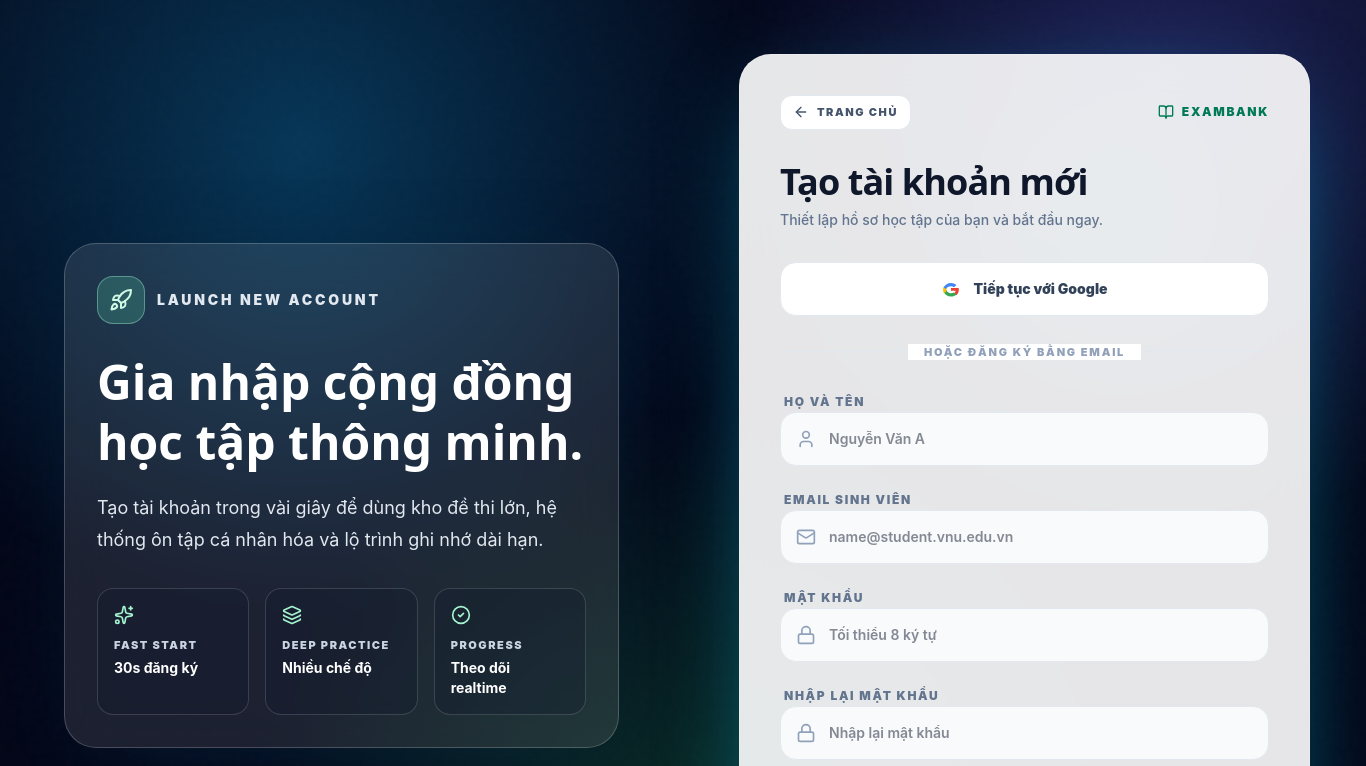
Scenario: Register page › validates full name — shows error when shorter than 3 chars
This screenshot has width=1366, height=766.
Type "AB" into the field labelled "Họ và tên" at (1024, 439), box [780,412,1269,466]
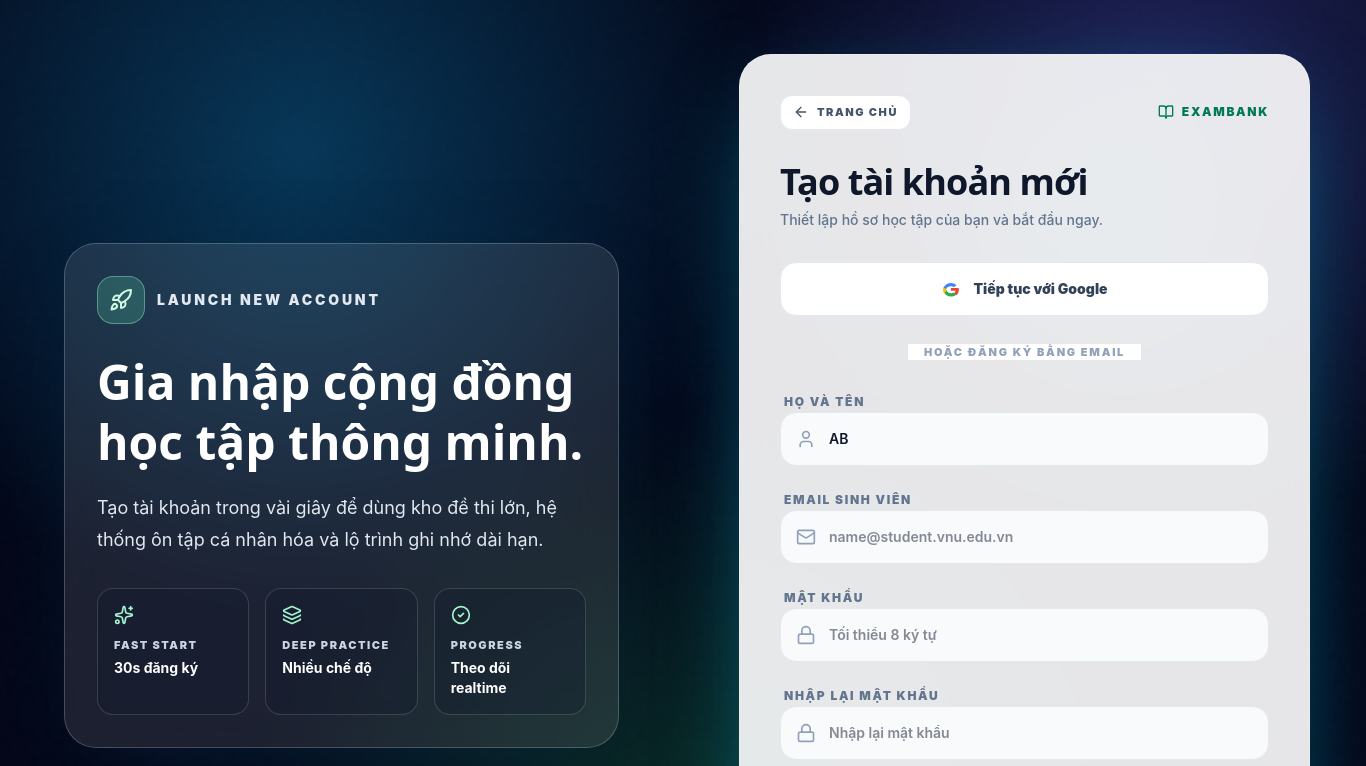
Type "a@b.com" into the field labelled "Email sinh viên" at (1024, 537), box [780,510,1269,564]
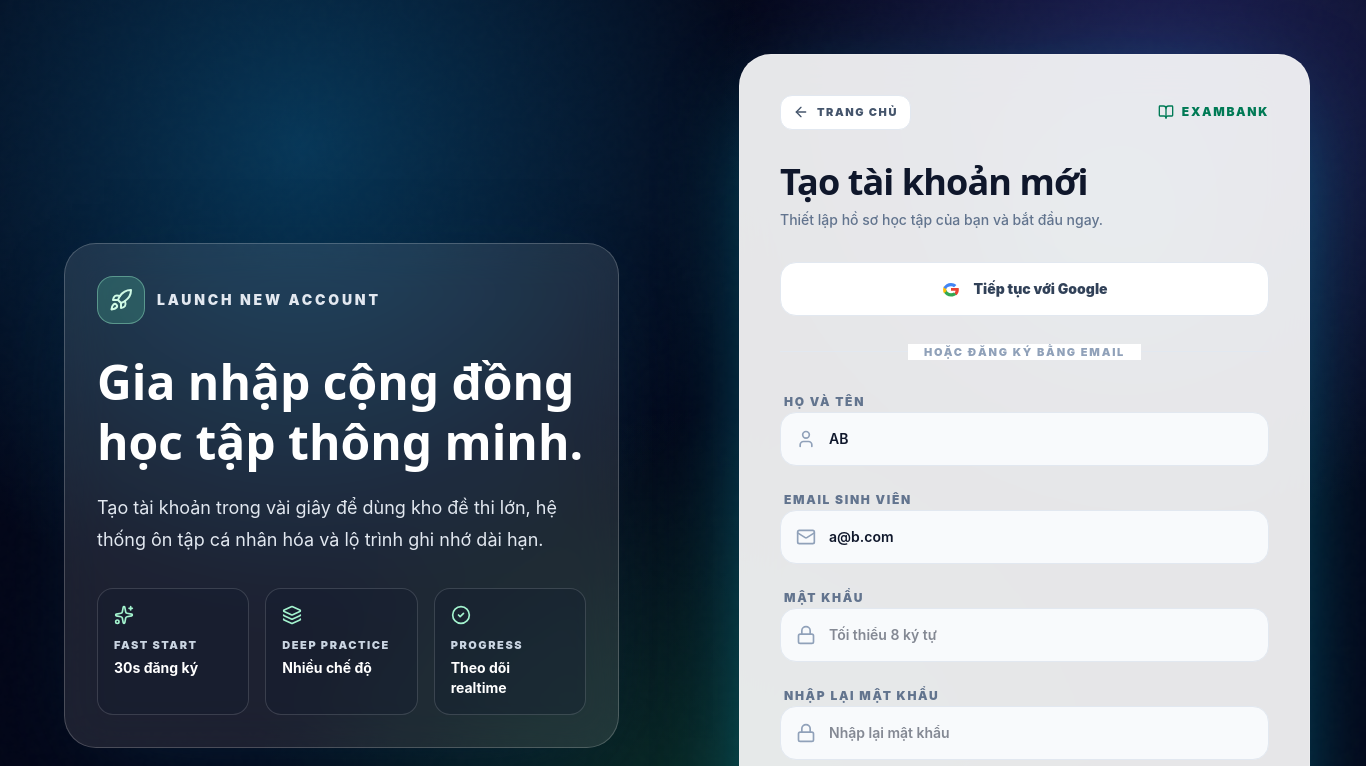
Type "Password123" into the password field labelled "Mật khẩu" at (1024, 635), box [780,608,1269,662]
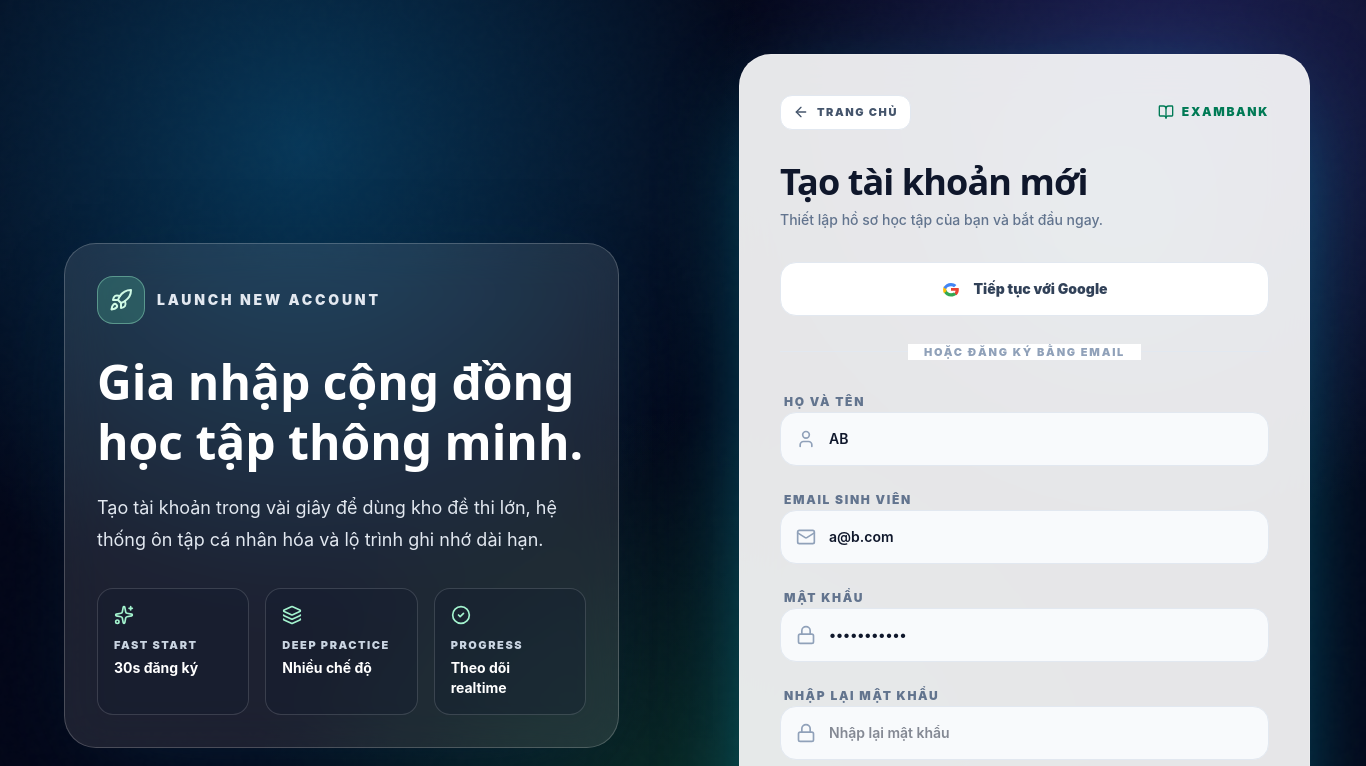
Type "Password123" into the password field labelled "Nhập lại mật khẩu" at (1024, 733), box [780,706,1269,760]
(page scrolled)
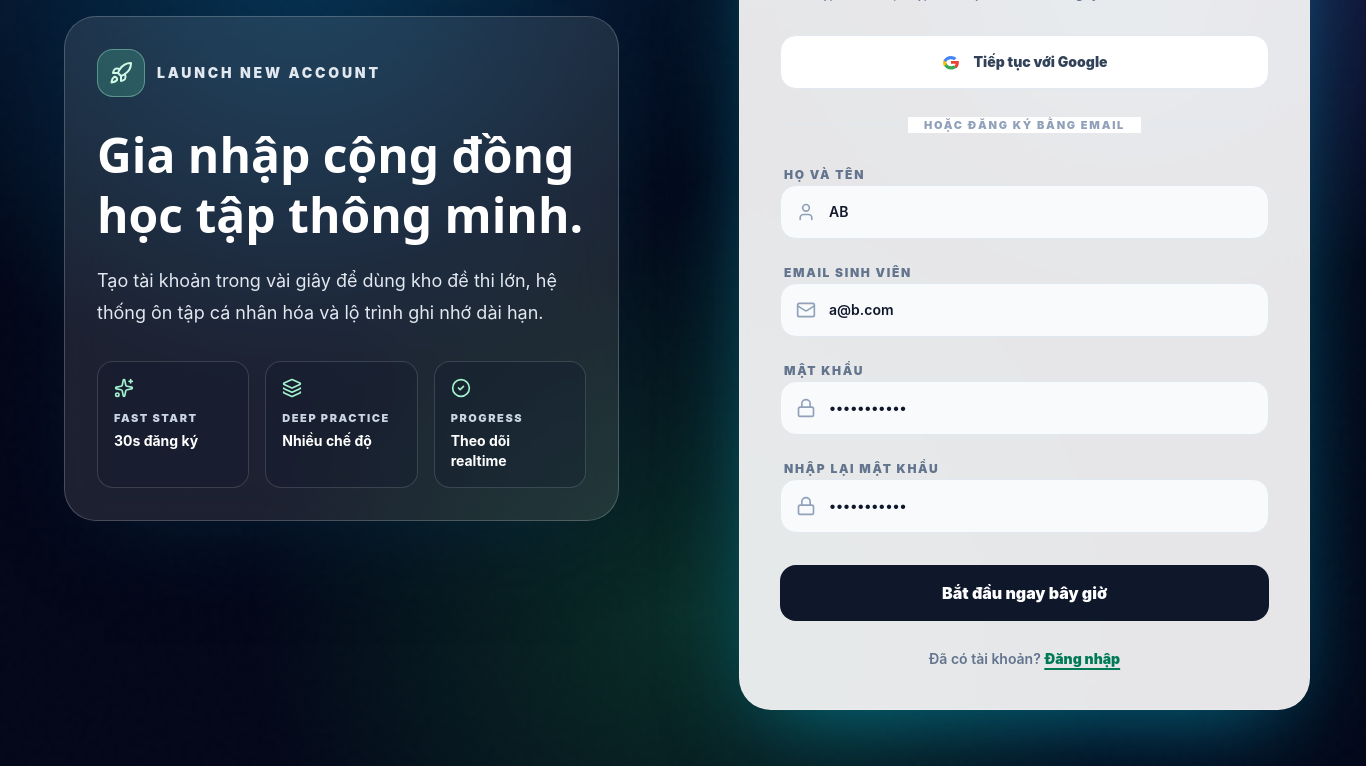
Click the button "Bắt đầu ngay bây giờ" at (1024, 593), box [780,565,1269,621]
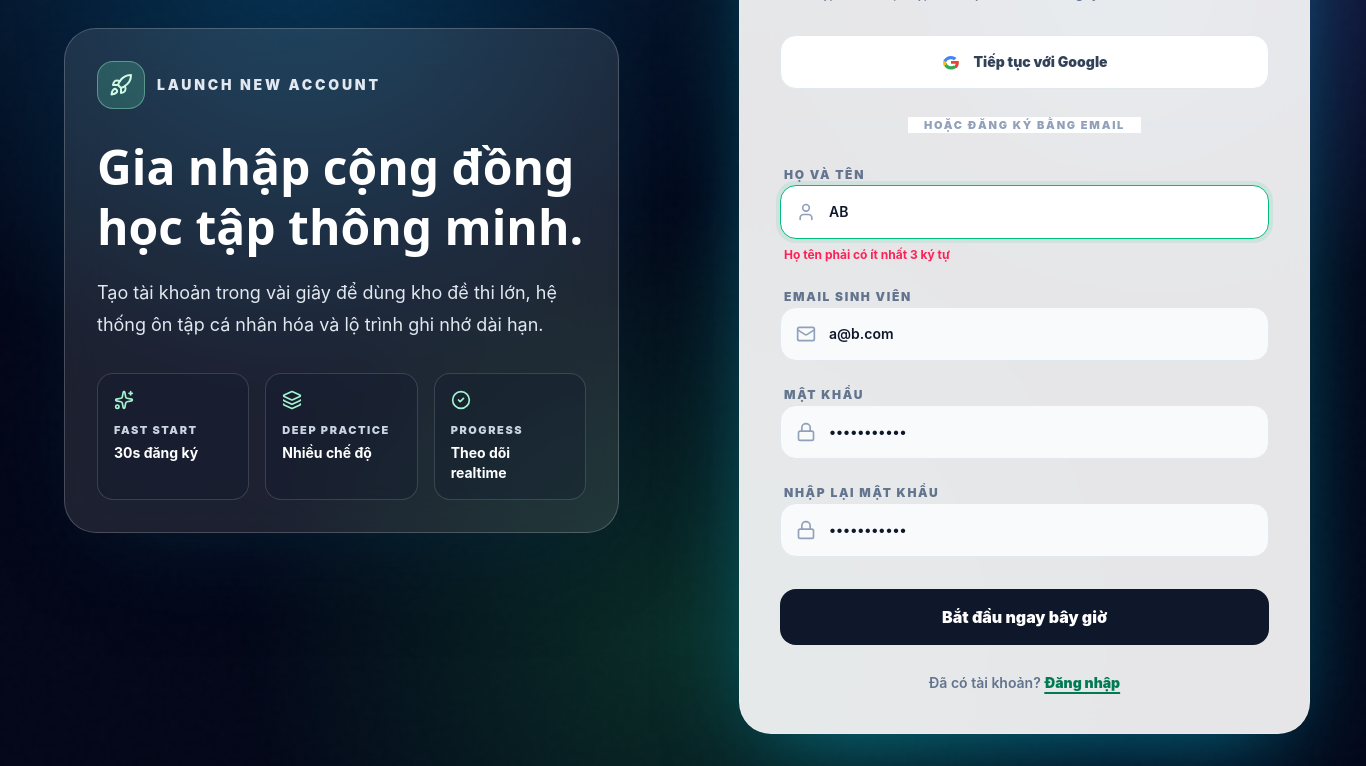
Result: the text "Họ tên phải có ít nhất 3 ký tự" is shown at [784,247,950,262]
